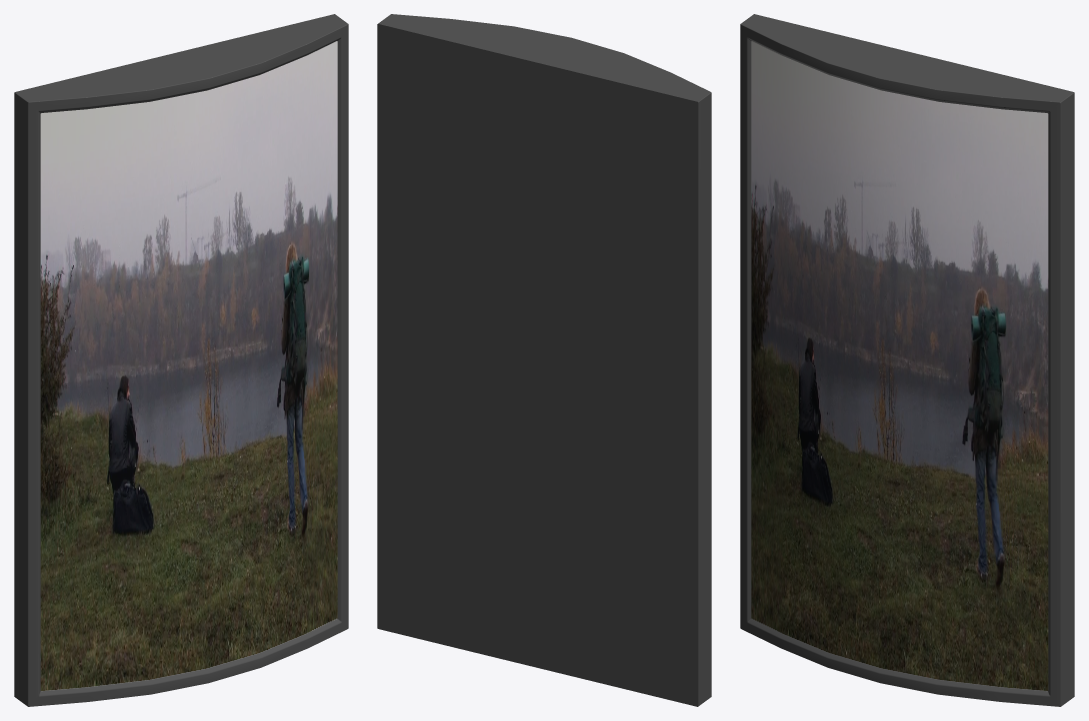
The model's file is AdStand_01.FBX.
The picture shows the model from 3 angles, left to right: view 1: azimuth 30°, elevation 25°; view 2: azimuth 150°, elevation 25°; view 3: azimuth 330°, elevation 25°; orthographic projection.
Parts seen in each view (by area): view 1: AdStand_01; view 2: AdStand_01; view 3: AdStand_01.
Boxes of the visible parts, x1,y1,x2,y2 form: AdStand_01: [14, 14, 348, 706]; AdStand_01: [377, 14, 711, 706]; AdStand_01: [740, 14, 1074, 706].
Bounding box in the file's own units: 100 × 180 × 18.61.
